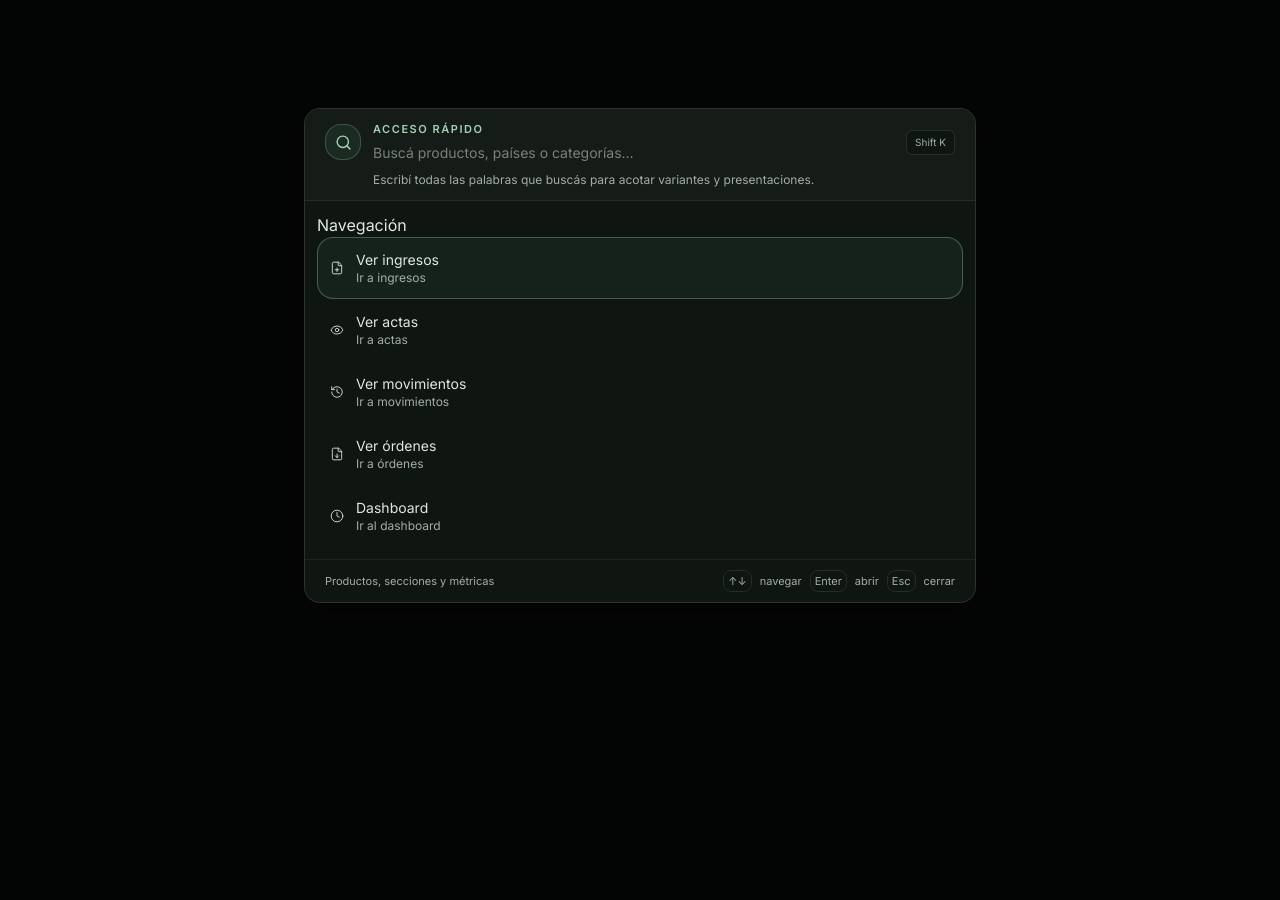
Test: CommandPalette › hides unrelated navigation actions and exposes the empty state for nonsense queries
Type "zzzz-no-result" into the dropdown with placeholder "Buscá productos, países o categorías…".
click(634, 152); type("zzzz-no-result")  # box 373,142 -> 894,162
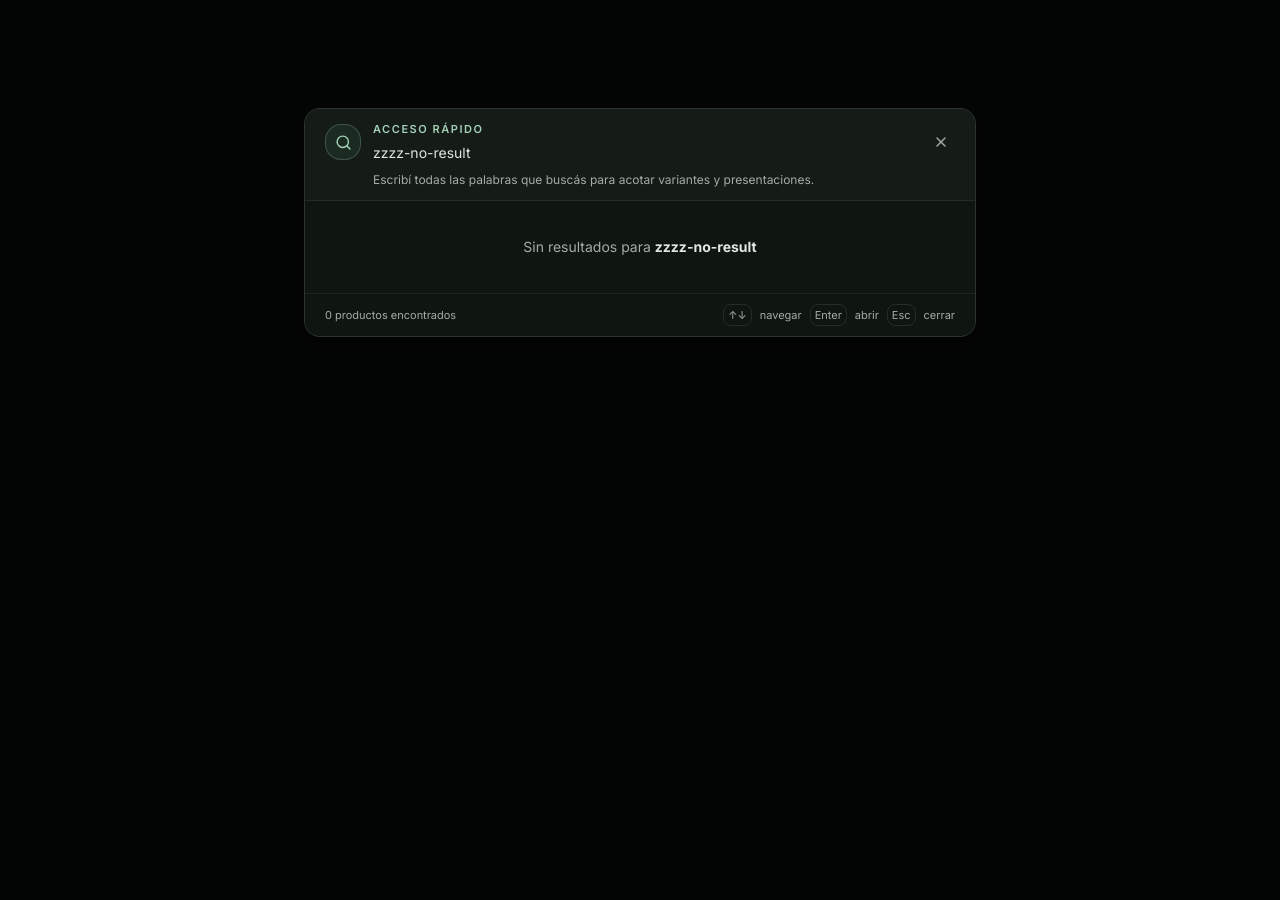
Now the option "Dashboard" is gone
Now the text "Sin resultados para zzzz-no-result" is shown, box 523,238 -> 757,254
